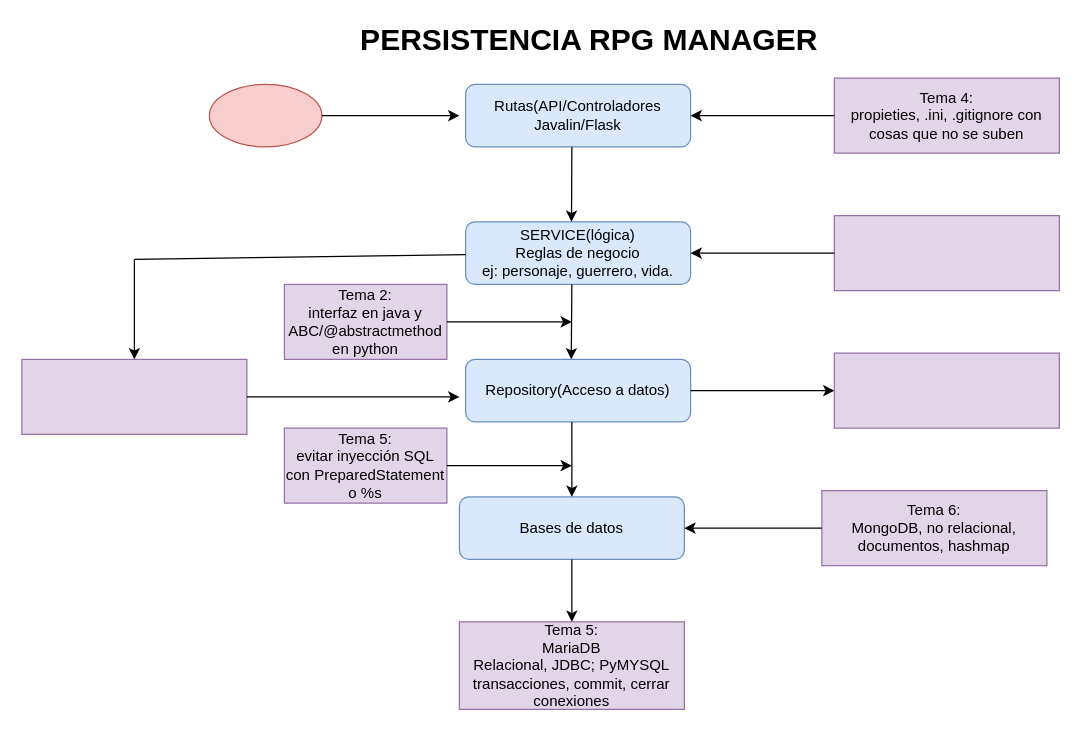
Some shapes in this 1081 by 731 pixel diagram are drawn without their labels. The shapes that lost their labels are listed below. From the top down, each one's centre as x and y in pixels, then its label:
point (265, 115): Usuario
point (946, 252): Tema 2: programar contra interfaz, contratos , constructor
point (134, 396): Tema 1: separar el negocio de los datos
point (946, 390): Tema 7: traducir objetos a tablas
